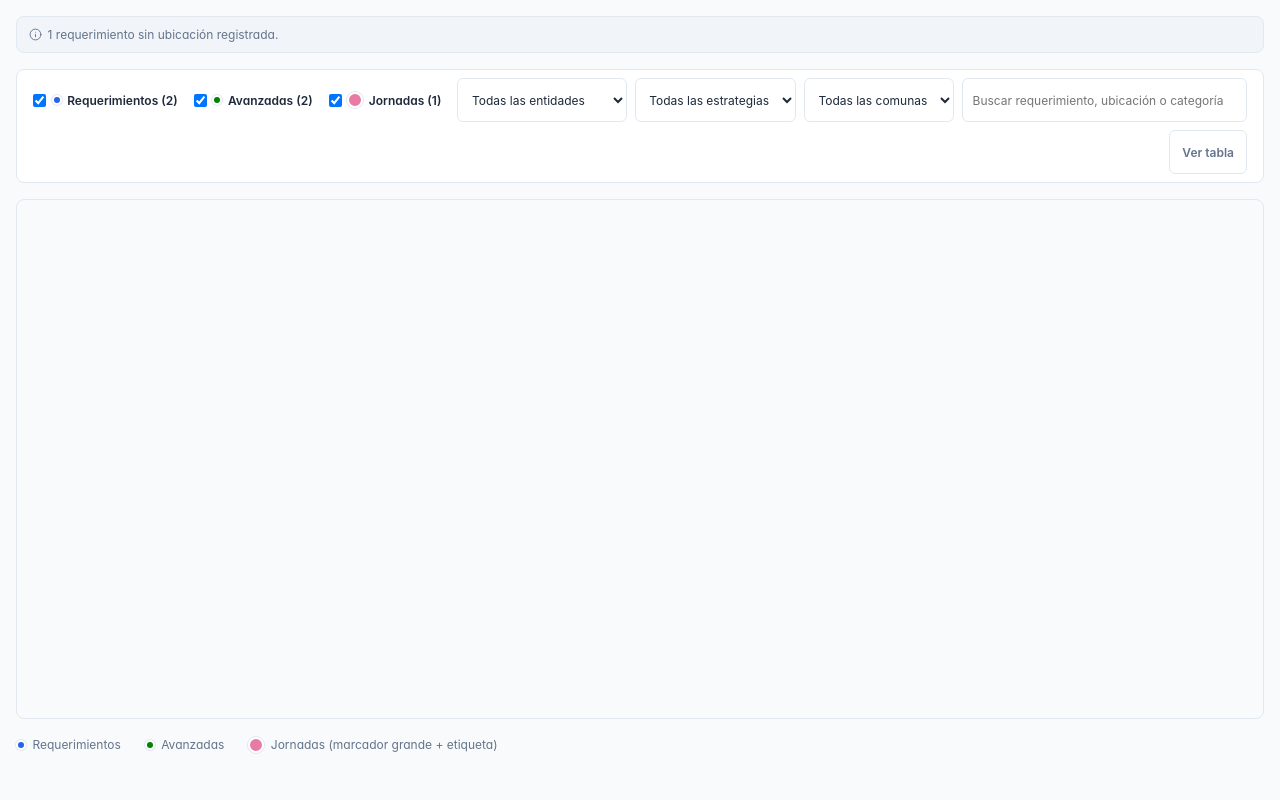
Test: MapaGeneral › toggling off a layer removes it from both the map and the table twin
Step 1. Click the checkbox labelled "Jornadas (1)" → (335, 100), box [329,94,342,107]
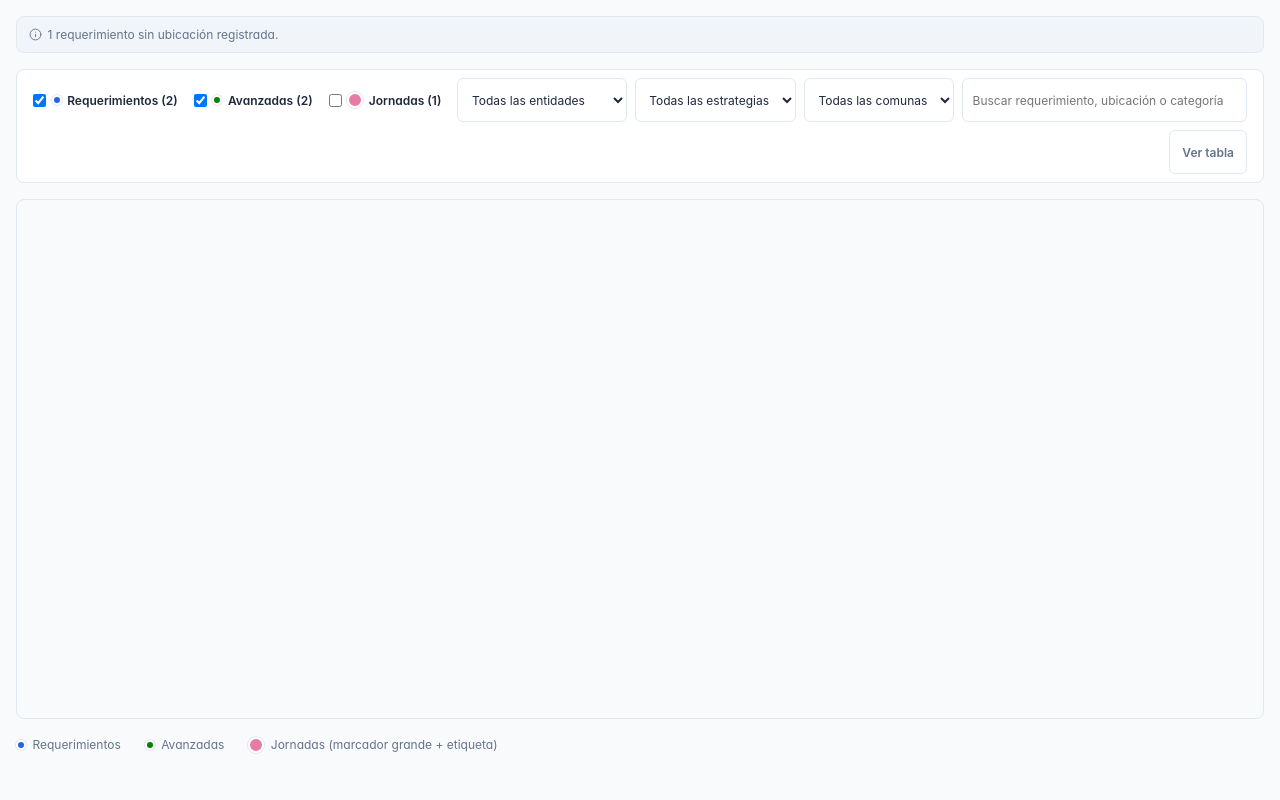
Step 2. Click the button "Ver tabla" → (1208, 152), box [1169,130,1247,174]
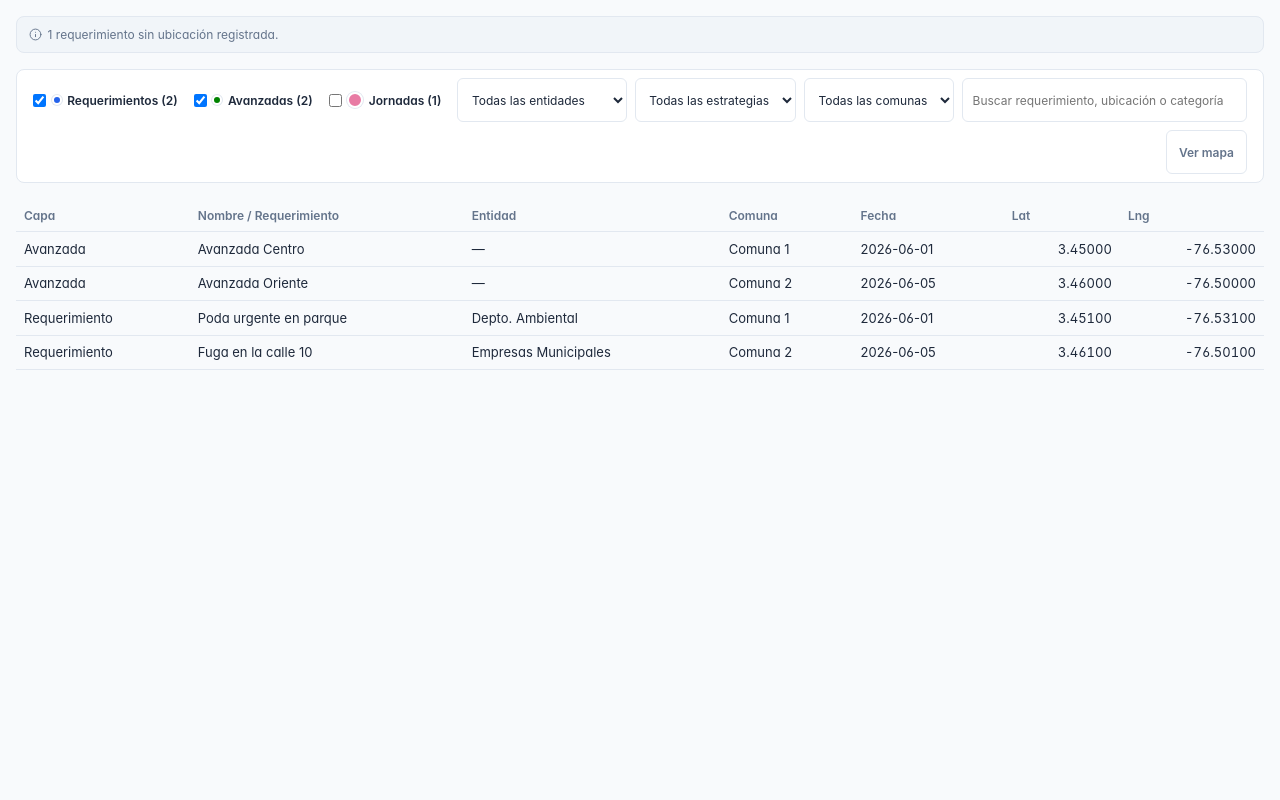
Expected: the text "Avanzada Centro" is shown, [190,232,464,266]
